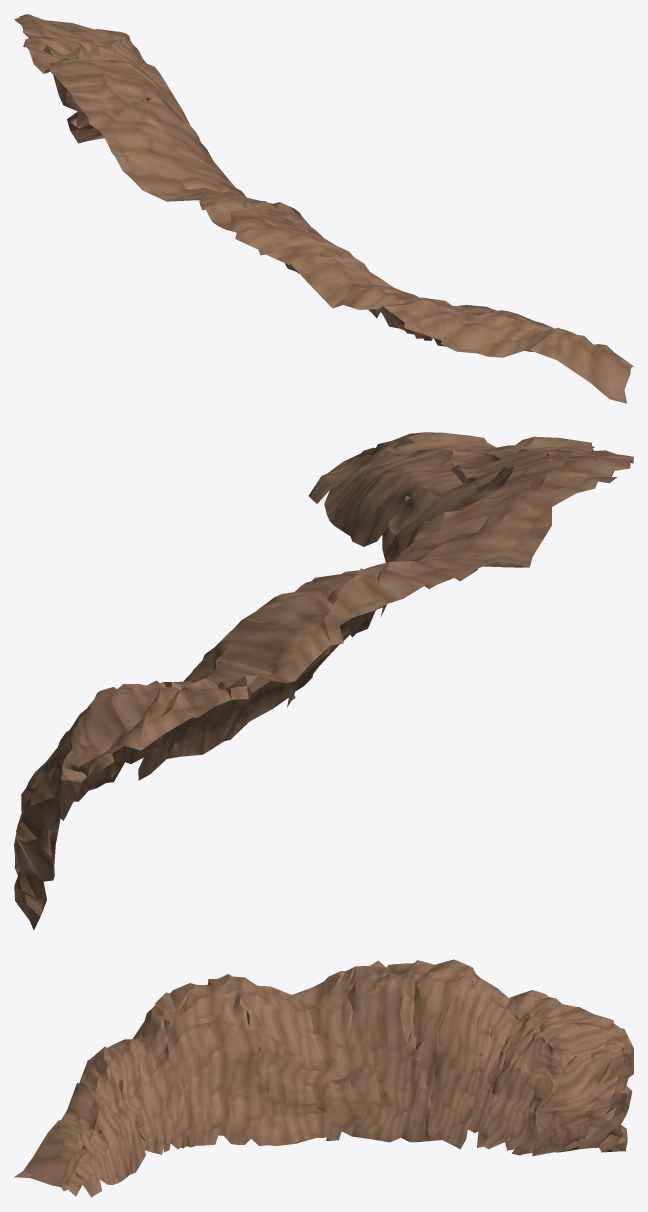
File: SM_ENV_LKNVLD_FaceRock_BG_A_03.FBX
The picture shows the model from 3 angles, top to bottom: view 1: azimuth 30°, elevation 25°; view 2: azimuth 150°, elevation 25°; view 3: azimuth 270°, elevation 25°; orthographic projection. The views are drawn at different scales.
Parts seen in each view (by area): view 1: SM_ENV_LKNVLD_FaceRock_BG_A_03; view 2: SM_ENV_LKNVLD_FaceRock_BG_A_03; view 3: SM_ENV_LKNVLD_FaceRock_BG_A_03.
Boxes of the visible parts, x1=… form: SM_ENV_LKNVLD_FaceRock_BG_A_03: x1=14, y1=14, x2=633, y2=403; SM_ENV_LKNVLD_FaceRock_BG_A_03: x1=14, y1=432, x2=633, y2=930; SM_ENV_LKNVLD_FaceRock_BG_A_03: x1=14, y1=959, x2=633, y2=1197.
Size of the model in its own units: 22786 by 12923 by 51415.
